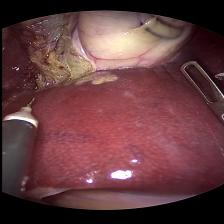Grasper: (174, 58, 224, 124)
Hook: (1, 96, 46, 132)
